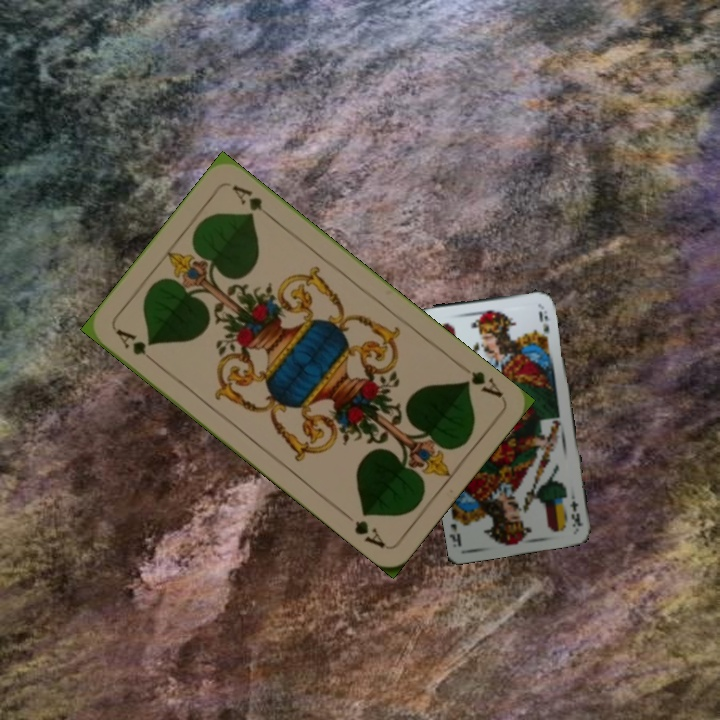EK: (566, 488, 586, 529)
GA: (458, 366, 506, 401), (112, 324, 153, 358)
